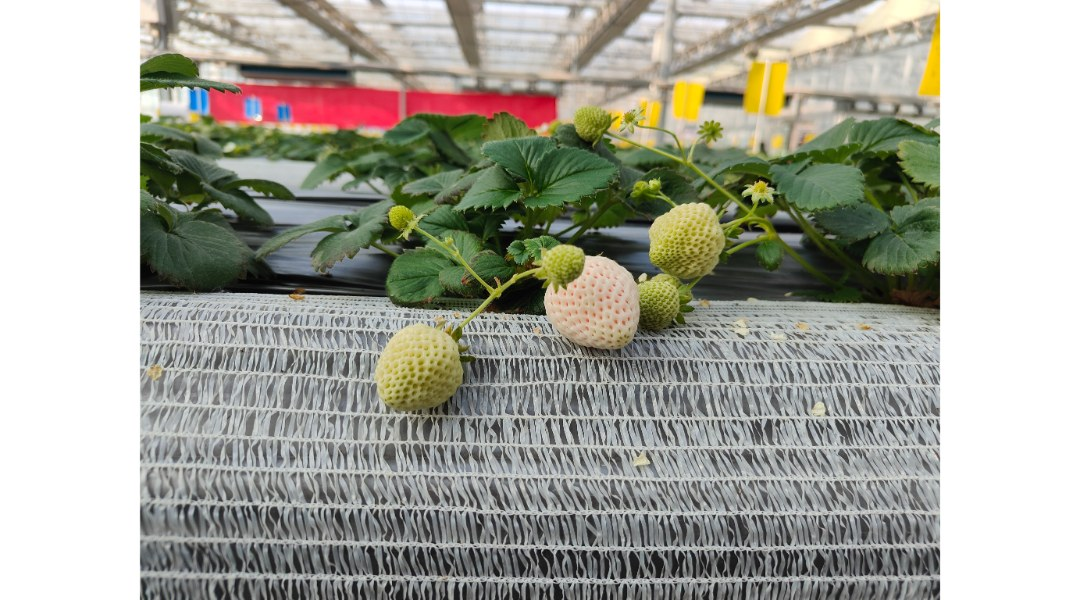berry: (545, 249, 637, 358), (364, 325, 471, 415), (645, 193, 721, 283), (638, 276, 675, 342), (542, 246, 585, 286), (573, 108, 613, 146), (384, 196, 417, 233)
flower: (739, 179, 780, 209)
strain: (691, 167, 743, 209), (457, 252, 492, 288), (500, 264, 536, 294), (618, 144, 673, 162), (462, 298, 489, 325), (418, 230, 452, 251), (730, 237, 762, 258)
